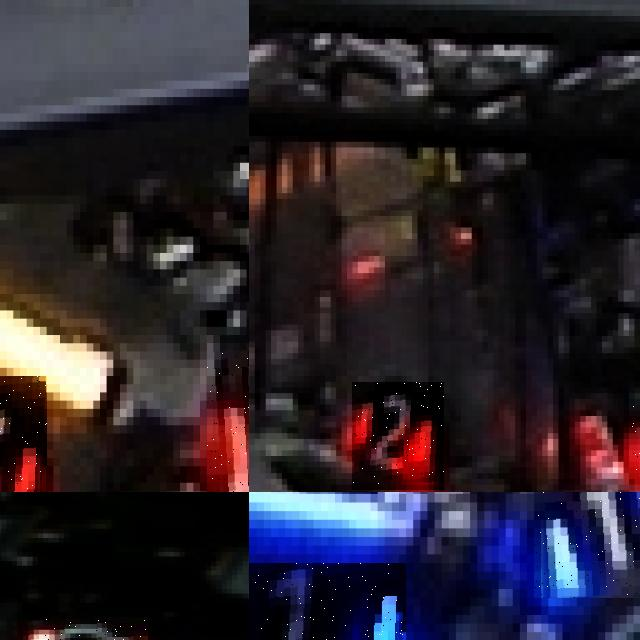B1: (249, 562, 406, 640), (534, 492, 640, 597)
R2: (352, 382, 444, 490)
R5: (206, 343, 249, 492), (0, 375, 46, 492)
Rs: (11, 617, 148, 640)
